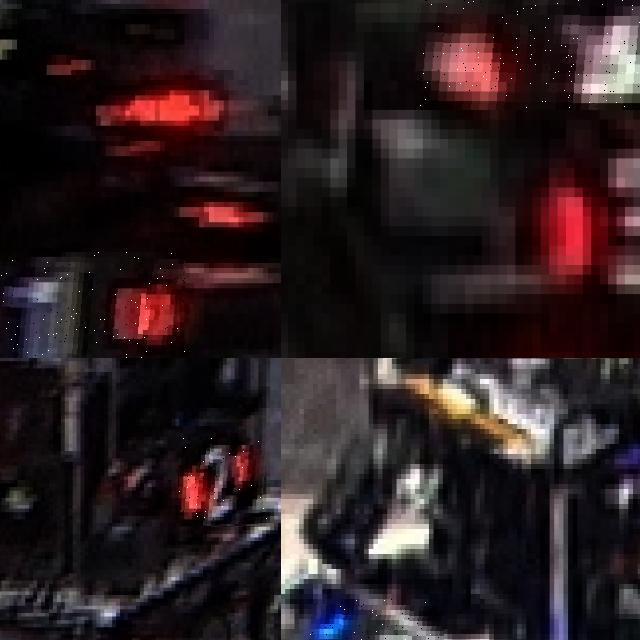B1: (308, 599, 447, 640)
R1: (0, 252, 184, 358)
R2: (178, 436, 268, 526)
R3: (414, 0, 640, 110), (515, 138, 640, 284)
